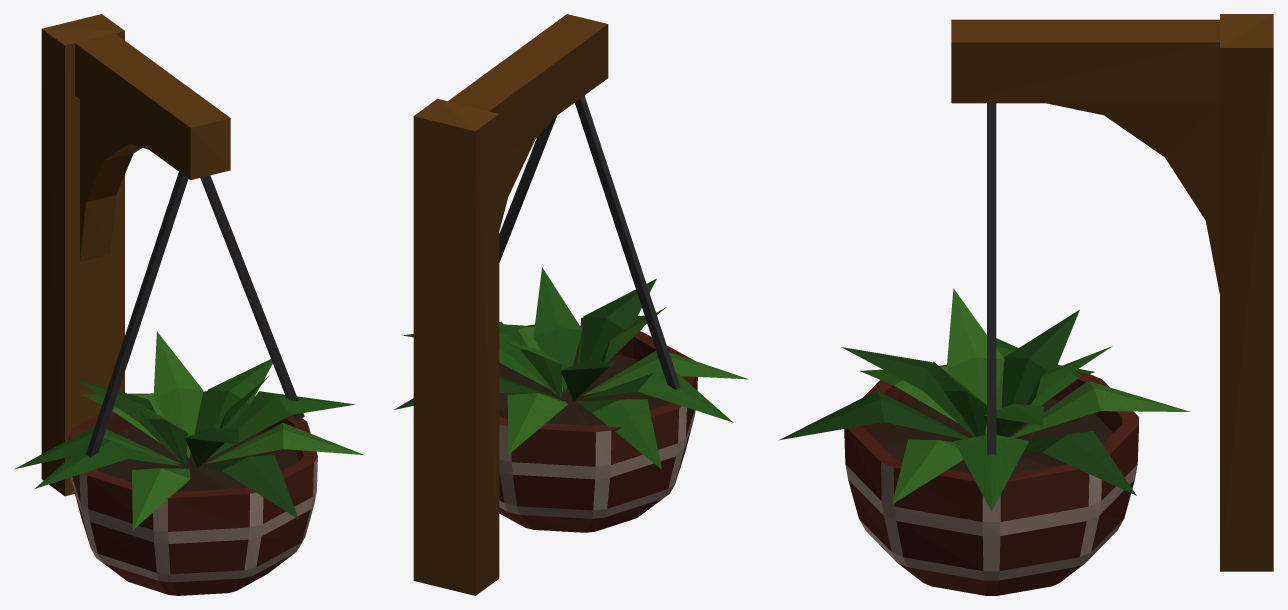
The model's file is wall_plant.obj.
The picture shows the model from 3 angles, left to right: view 1: azimuth 30°, elevation 25°; view 2: azimuth 150°, elevation 25°; view 3: azimuth 270°, elevation 25°; orthographic projection. The views are drawn at different scales.
Visible parts, largest first — view 1: Object Wall plant; view 2: Object Wall plant; view 3: Object Wall plant.
Part boxes in pixels (bbox=[...]): Object Wall plant: bbox=[14, 14, 363, 595]; Object Wall plant: bbox=[394, 14, 748, 595]; Object Wall plant: bbox=[779, 14, 1273, 595].
Bounding box in the file's own units: 64.37 × 88.5 × 73.75.
